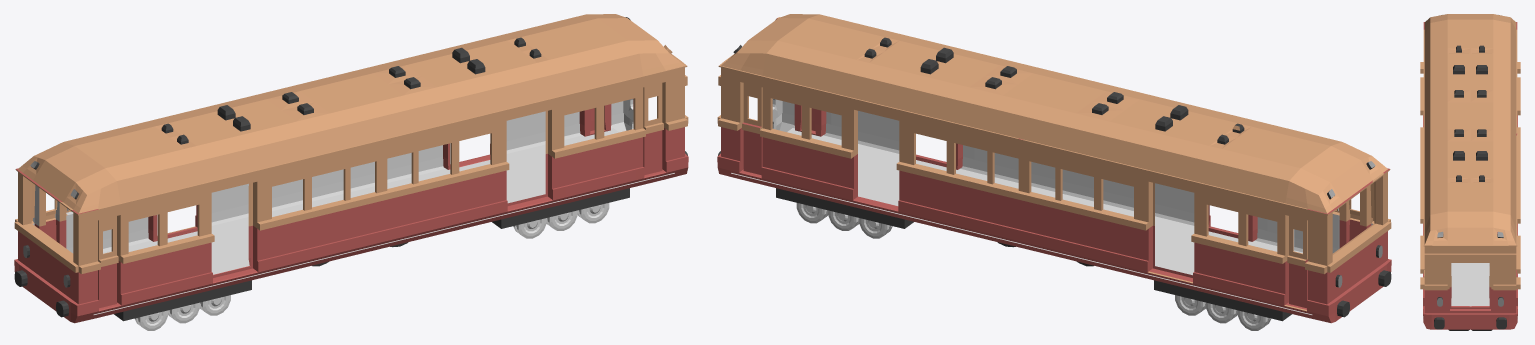
The model's file is trainTest.01.fbx.
3 renders of one model, left to right at view 1: azimuth 30°, elevation 25°; view 2: azimuth 150°, elevation 25°; view 3: azimuth 270°, elevation 25°, orthographic. The views are drawn at different scales.
Parts seen in each view (by area): view 1: train, Plane.003, hjul.005; view 2: train, Plane.003, hjul.005; view 3: train, Plane.003.
Boxes of the visible parts, left/top/right/bottom form: train: left=14, top=14, right=688, bottom=323; Plane.003: left=93, top=128, right=674, bottom=314; hjul.005: left=134, top=203, right=609, bottom=330; train: left=717, top=14, right=1391, bottom=323; Plane.003: left=731, top=128, right=1312, bottom=314; hjul.005: left=796, top=203, right=1271, bottom=330; train: left=1420, top=14, right=1520, bottom=330; Plane.003: left=1423, top=263, right=1517, bottom=318.
Bounding box in the file's own units: 486 × 130 × 89.46.
